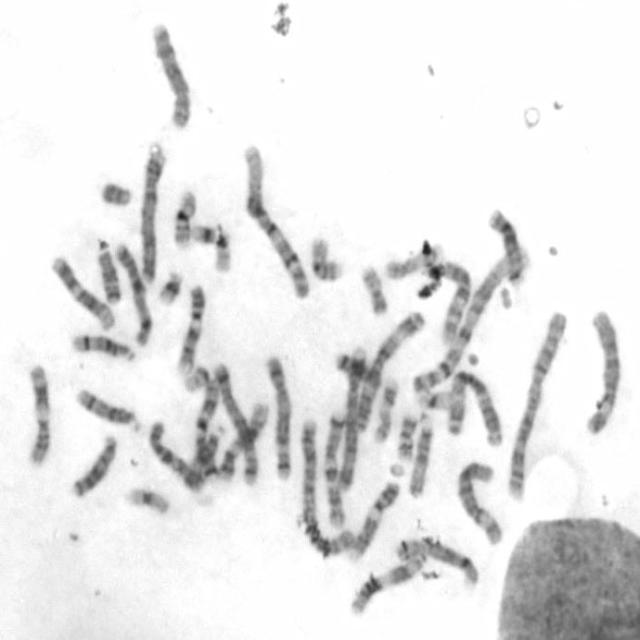A1: (407, 248, 528, 397), (238, 139, 312, 301)
A2: (502, 306, 568, 503), (297, 412, 357, 561)
A3: (342, 305, 428, 436), (442, 365, 506, 448)
B4: (331, 348, 378, 496), (135, 140, 167, 286)
B5: (206, 359, 261, 487), (261, 350, 294, 482)
C10: (145, 415, 207, 493), (420, 265, 474, 347)
C11: (344, 543, 430, 618), (22, 360, 52, 469)
C12: (47, 250, 117, 332), (215, 397, 272, 483)
C6: (580, 304, 623, 437), (452, 456, 504, 546)
C7: (321, 404, 350, 531), (188, 375, 221, 481)
C8: (147, 17, 194, 132), (392, 533, 482, 590)
C9: (343, 478, 402, 562), (172, 282, 207, 378)
D13: (483, 203, 529, 288), (66, 430, 118, 500)
D14: (72, 384, 143, 435), (68, 329, 137, 364)
D15: (189, 422, 227, 493), (404, 412, 435, 499)
E16: (306, 232, 345, 284), (168, 184, 198, 250)
E17: (382, 240, 449, 280), (370, 375, 400, 444)
E18: (93, 241, 122, 304), (334, 353, 382, 387)
F19: (120, 482, 172, 517), (414, 385, 454, 412)
F20: (357, 260, 390, 316), (394, 411, 418, 462)
G21: (154, 266, 185, 306), (188, 218, 226, 248)
G22: (210, 226, 232, 274), (179, 361, 211, 393)
X: (112, 239, 154, 348)
Y: (96, 178, 134, 207)
